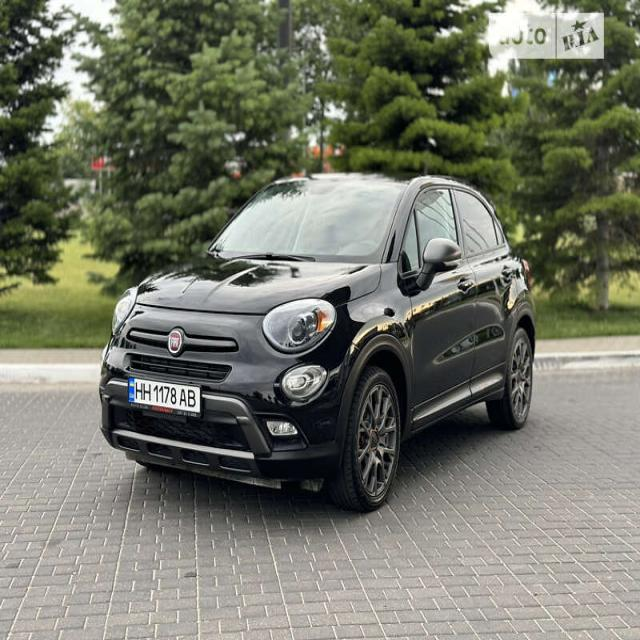plate: (120, 372, 206, 424)
